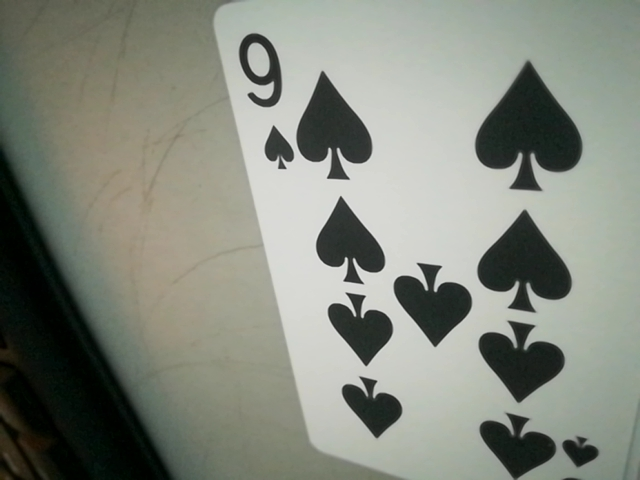ht 9: (226, 20, 301, 185)
